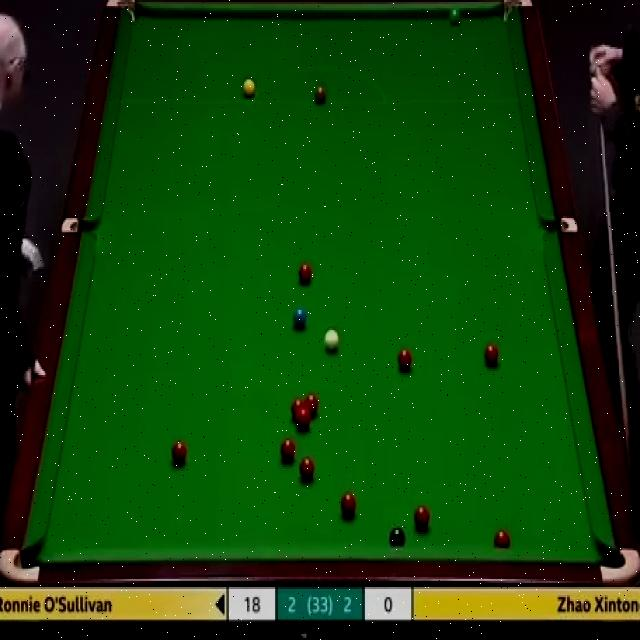black-ball: (390, 525, 406, 547)
blue-ball: (291, 306, 309, 328)
brown-ball: (314, 81, 326, 102)
green-ball: (449, 3, 462, 23)
red-ball: (299, 452, 317, 481), (340, 490, 358, 519), (171, 440, 188, 470), (413, 505, 431, 533), (396, 345, 414, 372), (298, 261, 316, 288), (277, 439, 297, 462), (483, 342, 498, 368), (291, 397, 305, 423), (305, 393, 319, 417), (493, 528, 511, 546), (296, 410, 312, 430)
white-ball: (324, 330, 340, 352)
yellow-ball: (242, 80, 255, 96)
